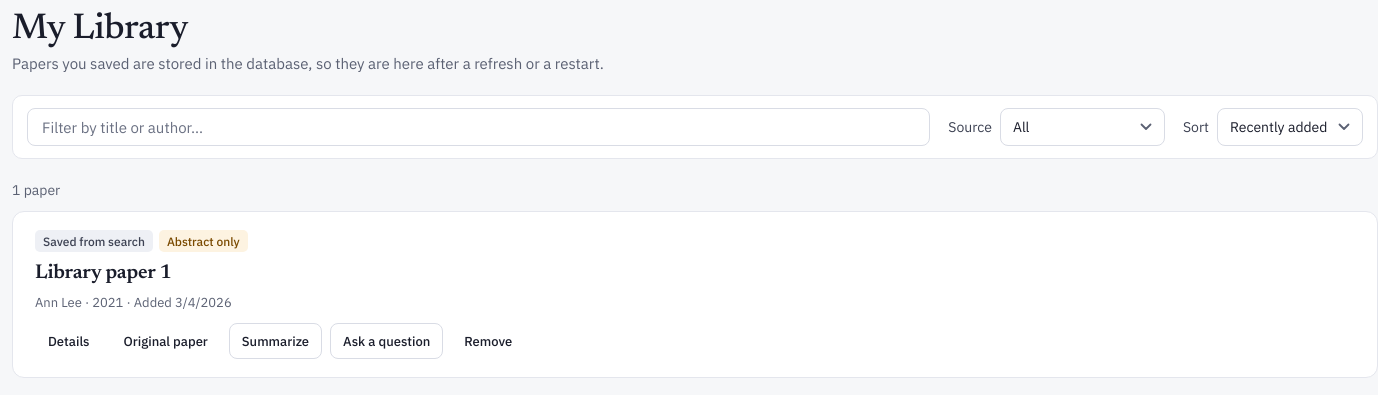
Test: LibraryPage › asks for confirmation before removing and can be cancelled
This screenshot has width=1378, height=395.
Expected: the link "Library paper 1" is shown, [35,263,172,283]
Click the button "Remove": click(488, 341) [451,323,525,359]
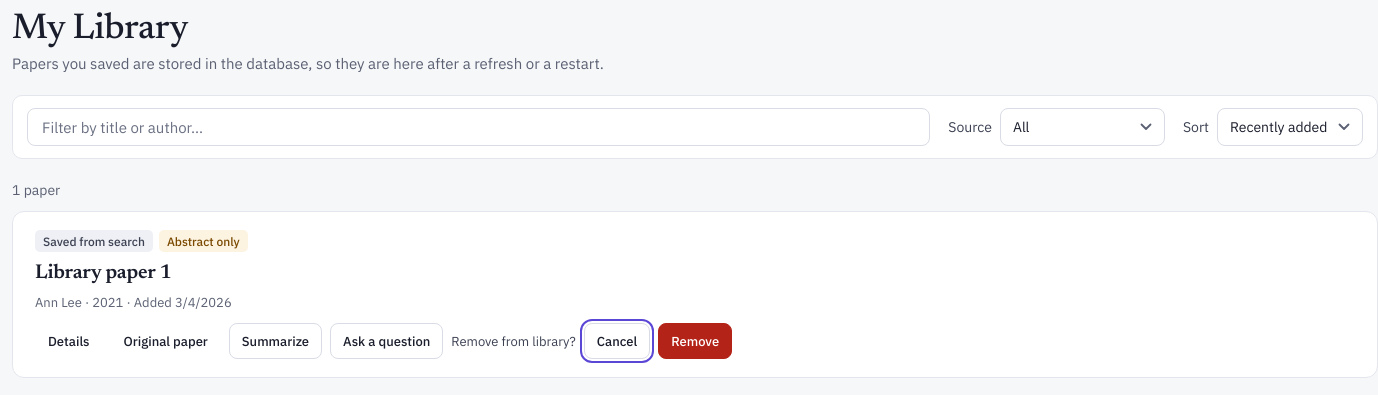
Expected: the text "Remove from library?" is shown, [451,332,576,350]
Click the button "Cancel": click(617, 341) [584,323,650,359]
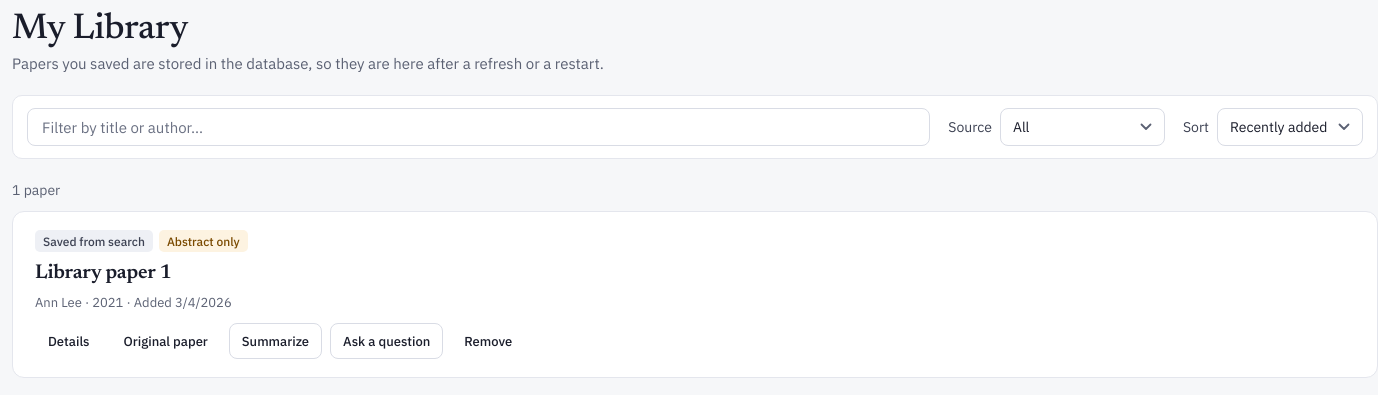
Expected: the text "Remove from library?" is gone
